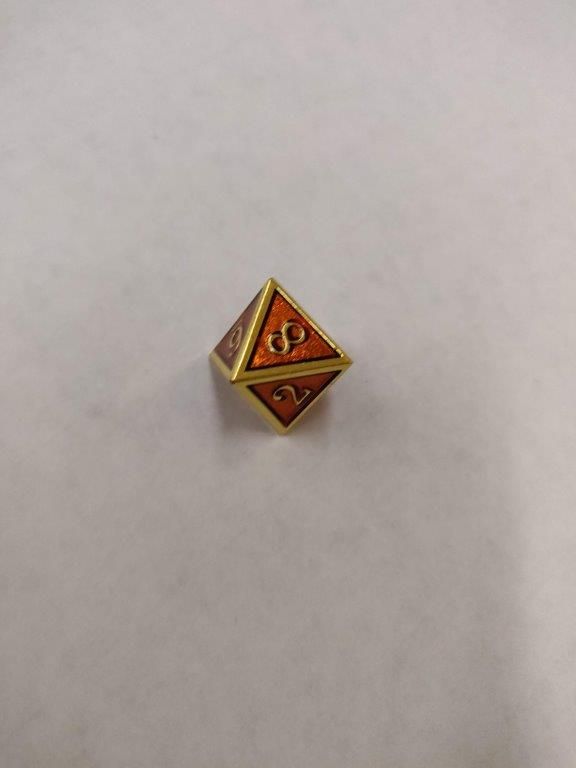d8-8: (208, 278, 353, 434)
